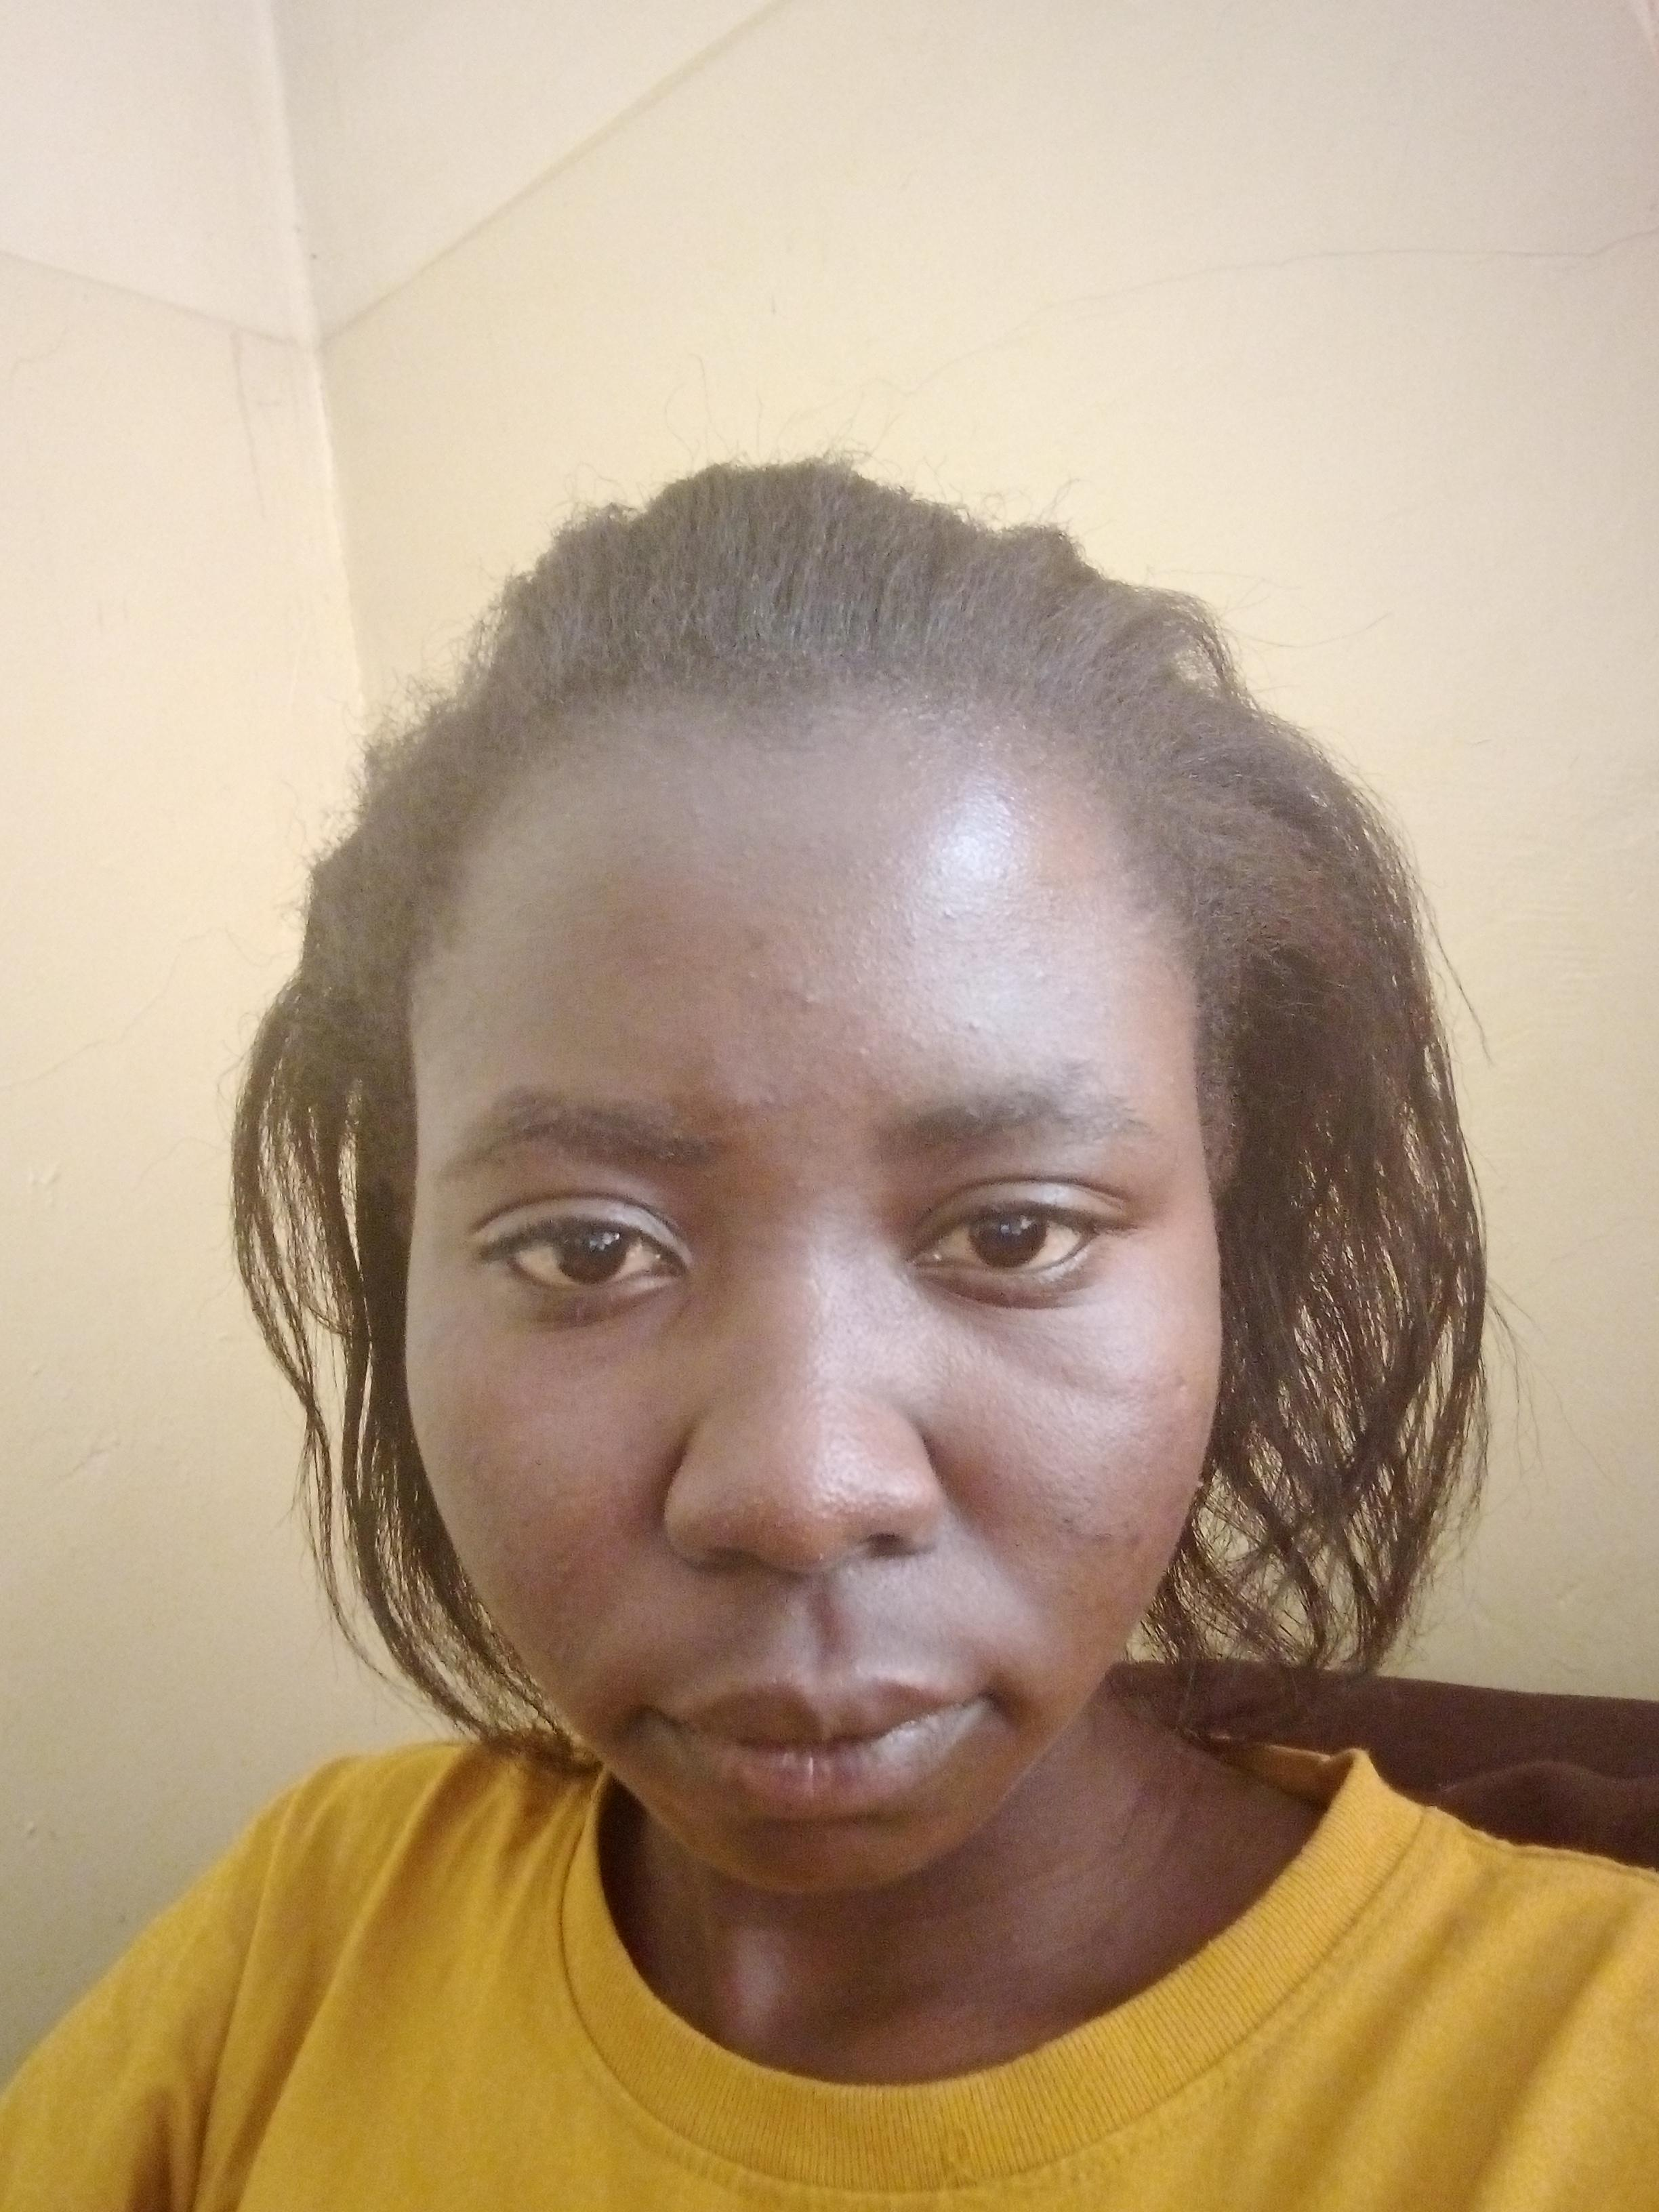Acne: (735, 920, 777, 958), (936, 894, 972, 935), (1047, 1512, 1093, 1545), (992, 787, 1028, 822), (1049, 977, 1096, 1001), (793, 988, 831, 1017), (962, 1015, 995, 1049), (1129, 1521, 1154, 1564), (843, 1036, 871, 1062), (906, 925, 932, 953), (985, 860, 1016, 883), (896, 850, 918, 880), (878, 855, 901, 885), (690, 799, 709, 827), (863, 869, 878, 894), (1035, 961, 1054, 981)
